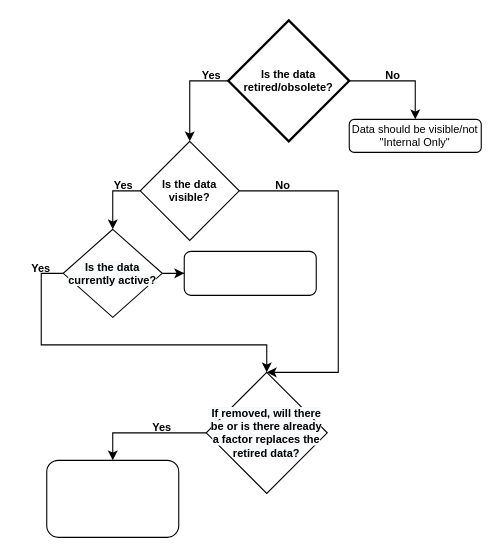
Image size: 501x557. Some labels were removed from this diagram. The box of each missing label's shape, as (x1, y1, x2, y2) in pixels:
Add metadata for replacement time/date and alert for clients using the factor: (46, 459, 179, 537)
Factor can be flagged for removal: (183, 250, 316, 295)
